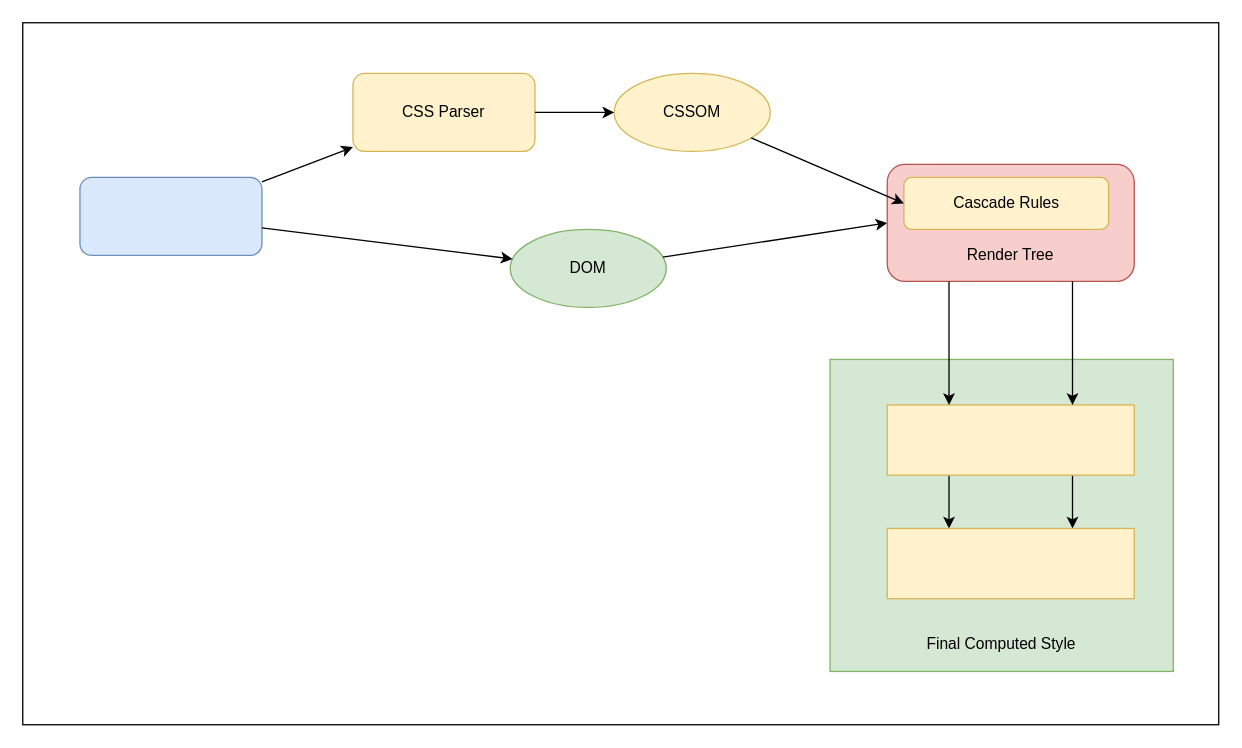
Image size: 1242x748. Some labels were removed from this diagram. Here are the shapes that lost their labels. From the top down, the centre of each, then its label:
At (x=170, y=215): "HTML Parser".
At (x=1010, y=439): "Layout/Reflow".
At (x=1010, y=563): "Paint".
